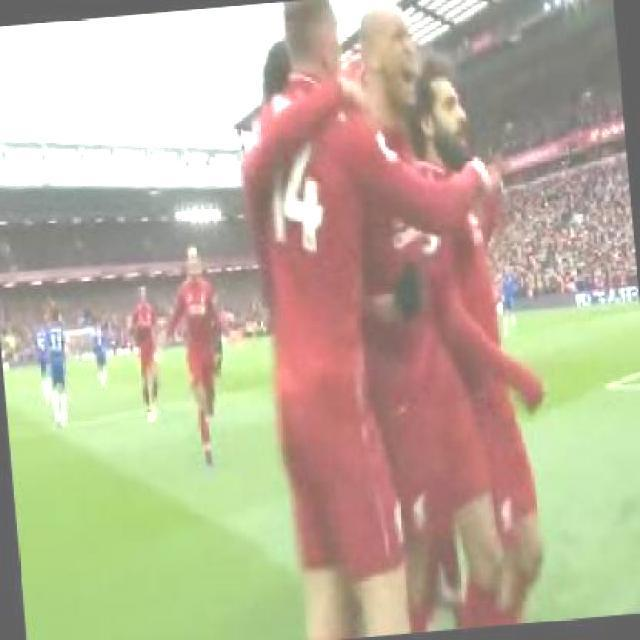fight: (237, 0, 528, 638)
